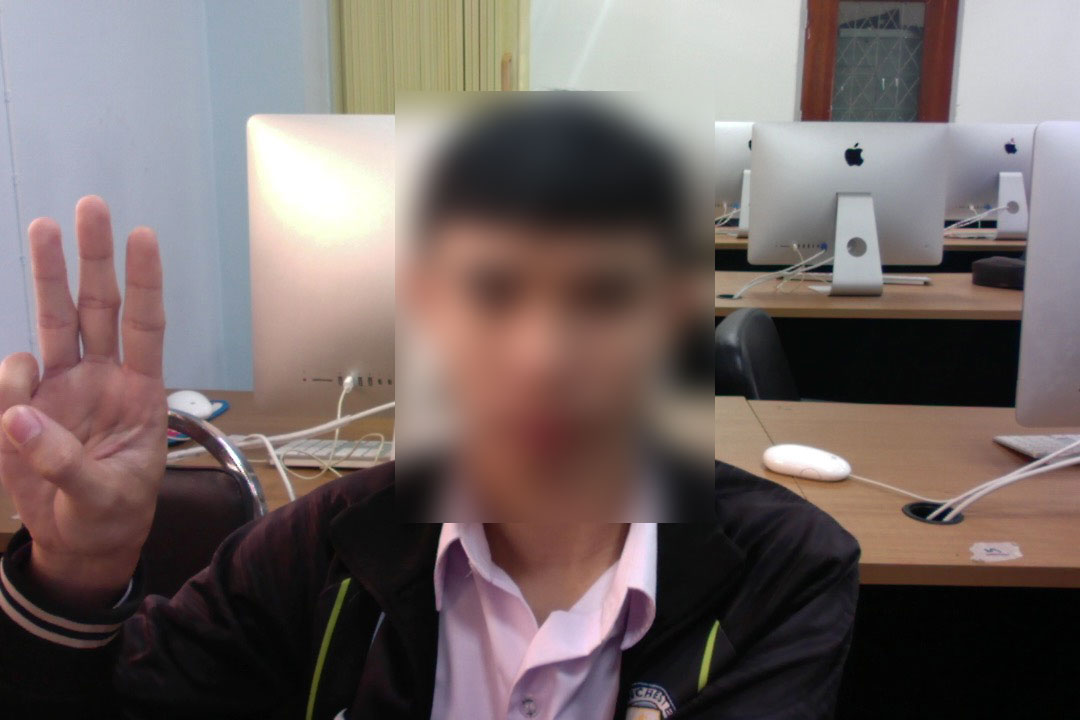wor: (5, 188, 188, 598)
